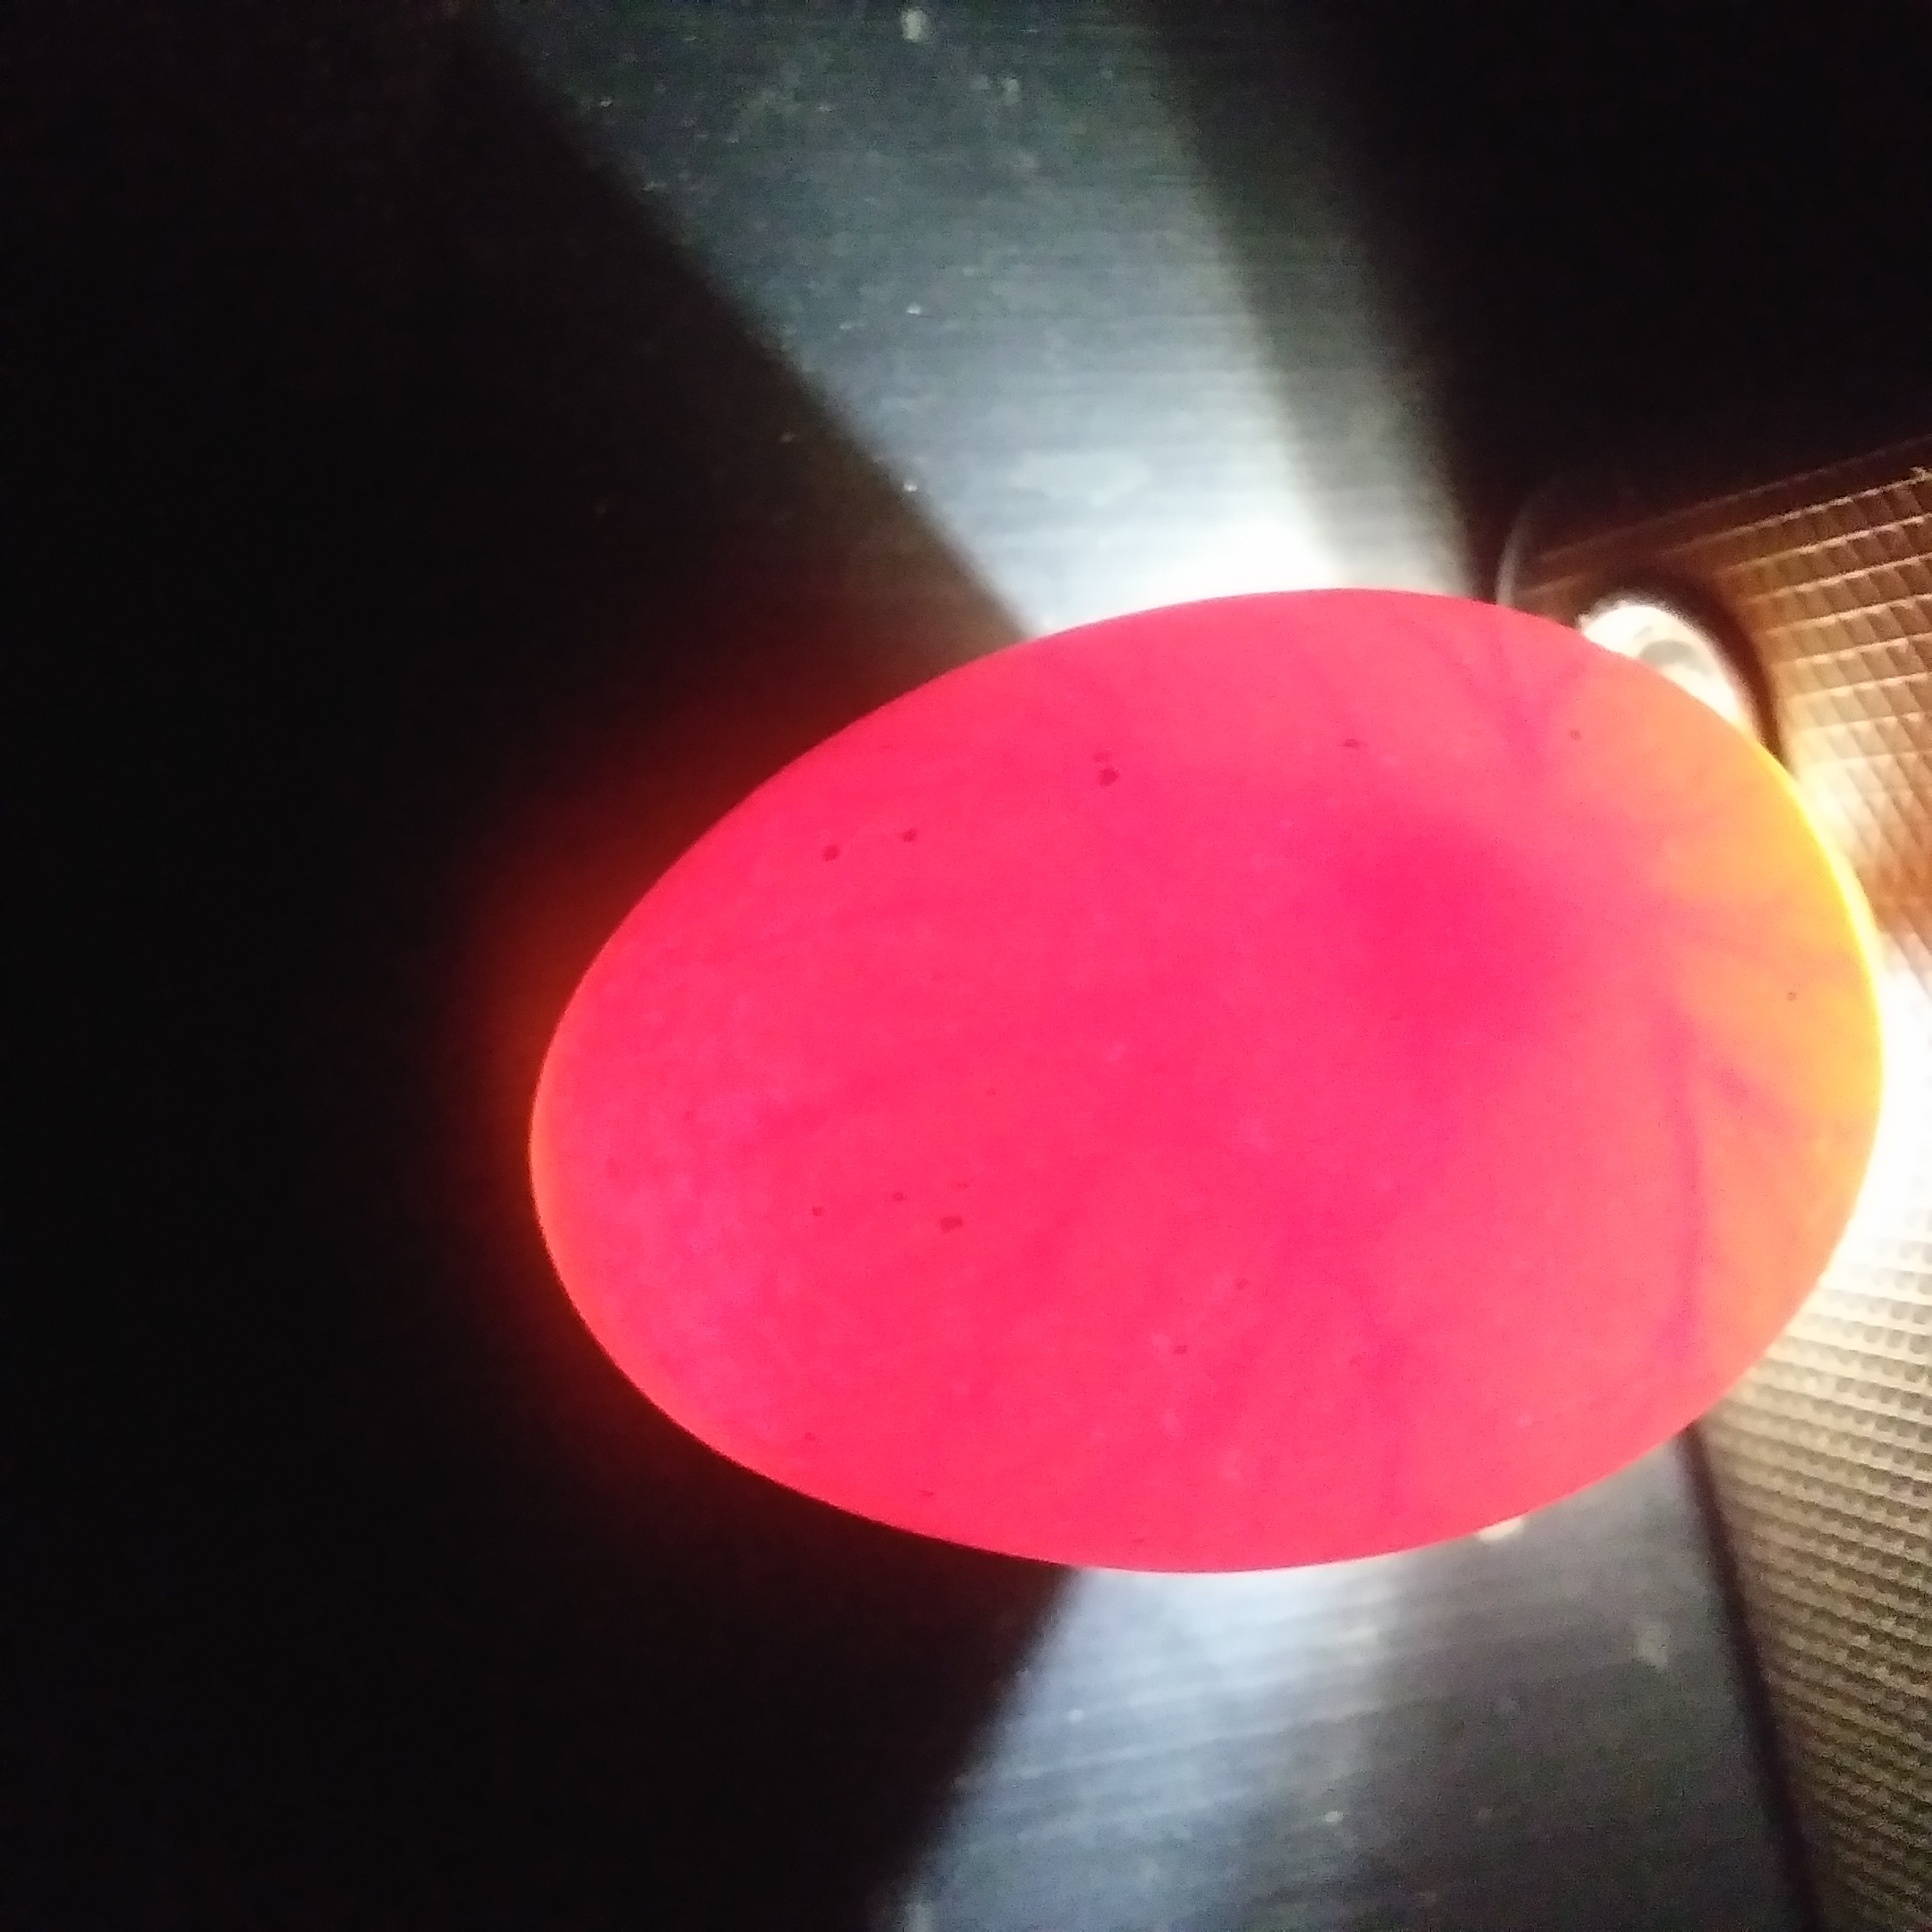bloodcell: (747, 1122, 1502, 1497), (1583, 764, 1773, 1361)
embryo: (1353, 821, 1539, 1051)
